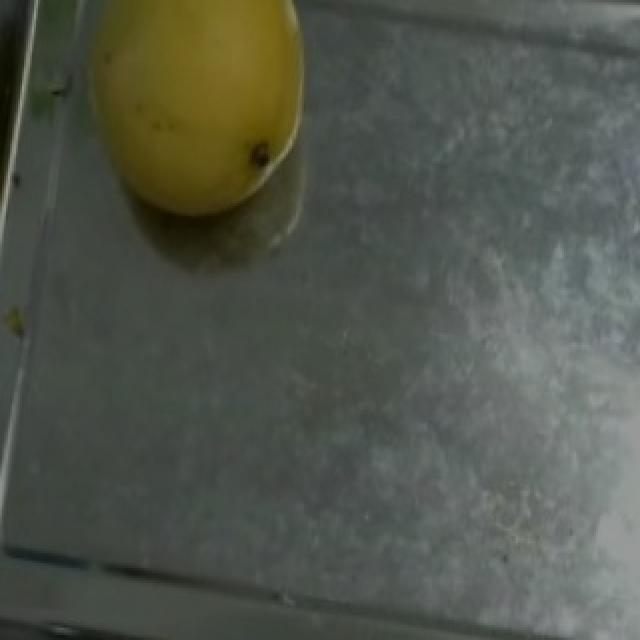fruit: (54, 0, 348, 243)
